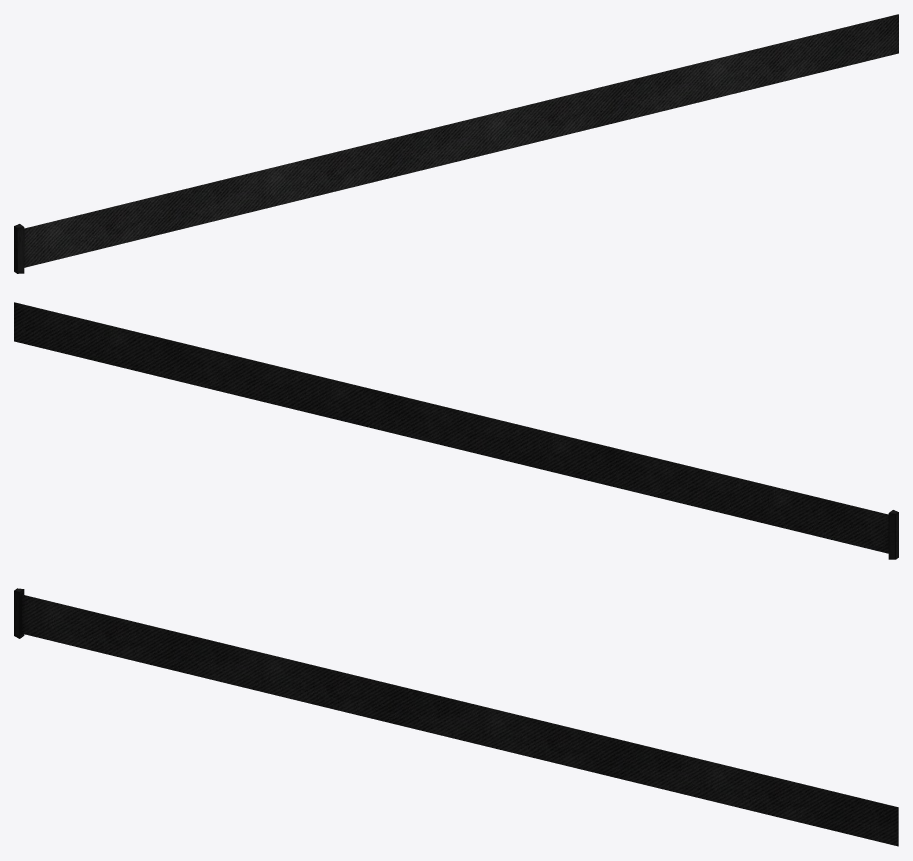
The model's file is SM_Queue_Barrier_Strap_01.glb.
3 renders of one model, top to bottom at view 1: azimuth 30°, elevation 25°; view 2: azimuth 150°, elevation 25°; view 3: azimuth 330°, elevation 25°, orthographic.
Parts seen in each view (by area): view 1: SM_Queue_Barrier_Strap_01; view 2: SM_Queue_Barrier_Strap_01; view 3: SM_Queue_Barrier_Strap_01.
Part boxes in pixels (x1,y1,x2,y2): SM_Queue_Barrier_Strap_01: (14, 14, 898, 273); SM_Queue_Barrier_Strap_01: (14, 302, 898, 559); SM_Queue_Barrier_Strap_01: (14, 588, 898, 846).
Size of the model in its own units: 1.42 by 0.0715 by 0.0126.
1 material, 1 textured.
